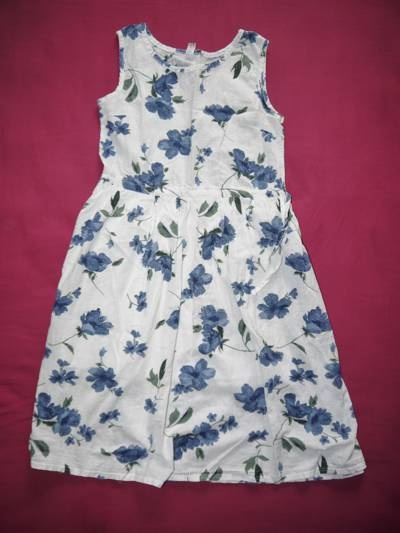Dress: (21, 20, 391, 493)
